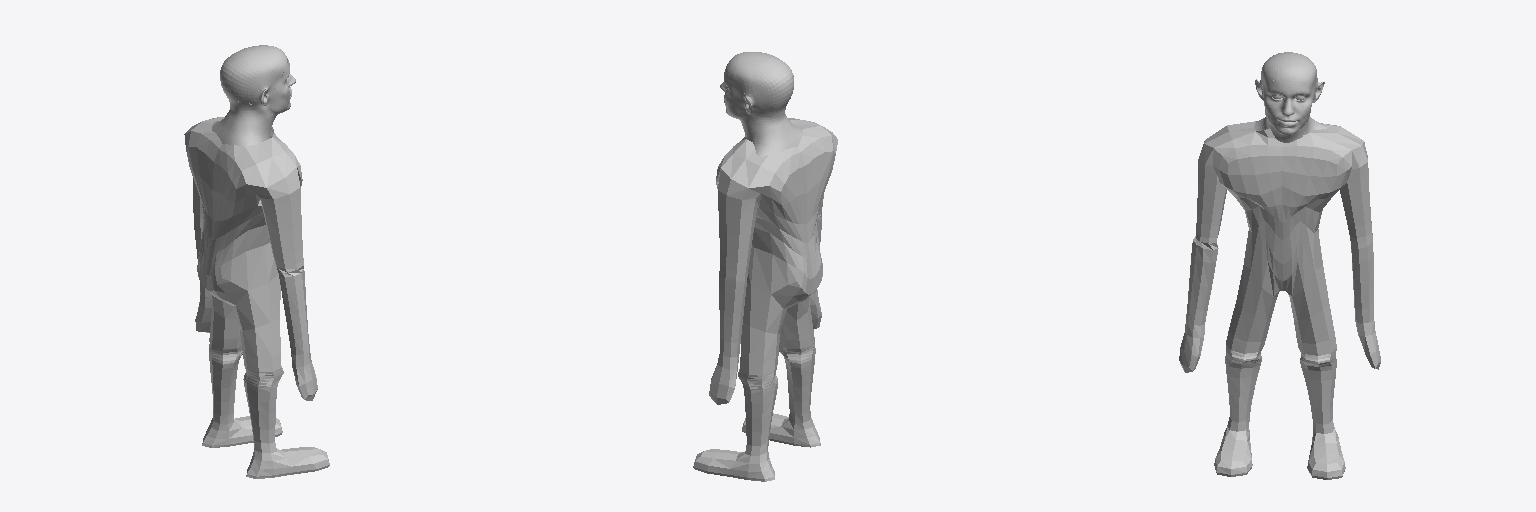
The model's file is Persona.obj.
The picture shows the model from 3 angles: view 1: azimuth 30°, elevation 25°; view 2: azimuth 150°, elevation 25°; view 3: azimuth 270°, elevation 25°; orthographic projection.
Parts seen in each view (by area): view 1: Cube, FBHead_FBHead_mesh; view 2: Cube, FBHead_FBHead_mesh; view 3: Cube, FBHead_FBHead_mesh.
Boxes of the visible parts, <box> form: Cube: <box>184,117,329,478</box>; FBHead_FBHead_mesh: <box>212,45,295,146</box>; Cube: <box>693,118,837,481</box>; FBHead_FBHead_mesh: <box>720,52,802,156</box>; Cube: <box>1179,121,1380,479</box>; FBHead_FBHead_mesh: <box>1254,52,1327,142</box>.
Size of the model in its own units: 10.55 by 41.93 by 19.06.